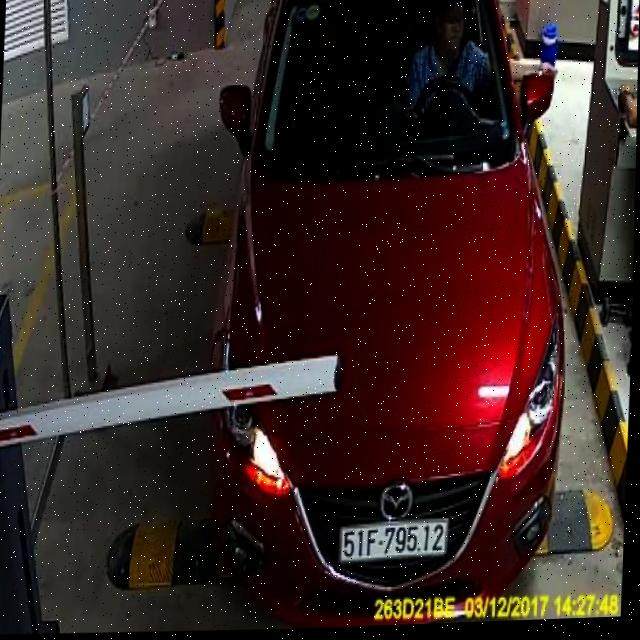car: (186, 0, 588, 608)
plate: (338, 514, 451, 565)
